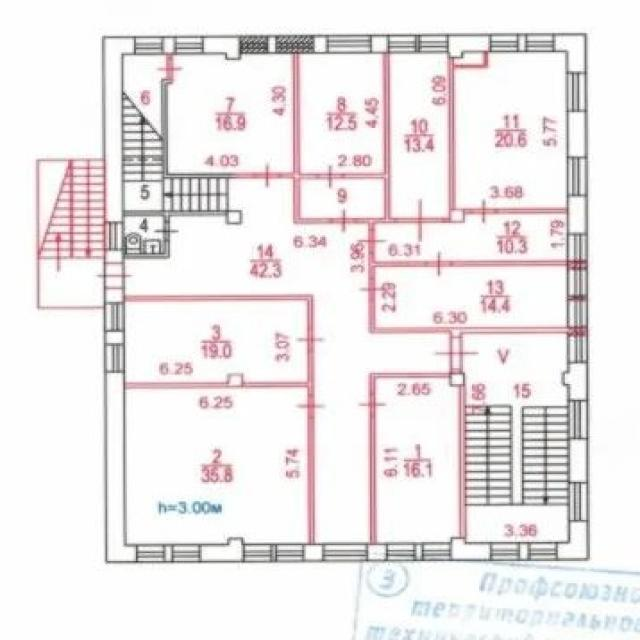Bathrooms: (125, 218, 163, 254)
Corridors: (125, 180, 450, 543), (300, 180, 384, 217)
Doors: (393, 198, 443, 243), (433, 336, 479, 369), (94, 262, 135, 288), (465, 197, 498, 224), (423, 251, 454, 277), (251, 163, 281, 189), (358, 230, 389, 255), (295, 393, 326, 418), (330, 209, 361, 233), (316, 164, 344, 190), (156, 55, 185, 80), (356, 278, 386, 302), (295, 329, 325, 352), (358, 395, 387, 415), (154, 221, 180, 241)
LBwalls: (101, 35, 136, 222), (103, 372, 137, 564), (554, 32, 588, 73), (556, 521, 590, 561), (201, 537, 245, 563), (560, 362, 589, 400), (447, 33, 490, 58), (203, 35, 241, 60), (568, 439, 589, 483), (567, 111, 587, 157), (450, 538, 491, 560), (567, 196, 587, 235), (366, 543, 387, 562), (303, 544, 324, 562), (371, 35, 388, 53), (105, 287, 124, 303), (104, 250, 124, 263), (314, 35, 328, 53), (226, 373, 244, 387), (225, 210, 243, 224), (449, 373, 467, 387), (104, 331, 124, 343), (449, 209, 466, 223), (162, 36, 175, 54), (519, 543, 530, 561), (516, 34, 526, 51), (414, 542, 423, 560), (270, 543, 278, 563), (164, 545, 173, 562), (267, 35, 275, 53), (416, 36, 419, 52)
Offices: (125, 389, 306, 543), (455, 52, 566, 209), (125, 301, 306, 380), (169, 55, 291, 172), (378, 379, 458, 542), (377, 268, 566, 327), (302, 54, 382, 172), (391, 54, 448, 217), (377, 215, 566, 260)
Stairs: (463, 334, 568, 542), (124, 55, 230, 210), (38, 160, 104, 308)
Walls: (160, 78, 251, 179), (344, 53, 394, 231), (281, 54, 330, 225), (368, 302, 589, 338), (125, 294, 315, 328), (448, 53, 489, 210), (244, 352, 315, 396), (368, 373, 451, 395), (368, 254, 424, 278), (459, 387, 467, 538), (368, 415, 377, 543), (123, 210, 226, 221), (307, 417, 315, 544), (123, 240, 171, 260), (452, 259, 567, 266), (126, 382, 226, 388), (498, 207, 566, 214), (566, 261, 588, 268), (567, 294, 587, 301), (450, 368, 462, 373), (442, 217, 449, 223)
Windows: (567, 72, 587, 111), (568, 157, 588, 196), (569, 400, 589, 438), (568, 483, 588, 521), (329, 35, 371, 53), (325, 544, 366, 562), (276, 35, 314, 53), (103, 343, 125, 373), (104, 303, 125, 331), (105, 221, 124, 250), (568, 335, 588, 362), (173, 544, 201, 563), (567, 235, 587, 261), (568, 269, 588, 295), (568, 301, 588, 327), (490, 33, 517, 52), (530, 542, 557, 561), (136, 545, 164, 563), (490, 542, 518, 560), (176, 36, 204, 54), (387, 543, 414, 561), (135, 36, 162, 54), (240, 35, 267, 53), (422, 543, 450, 560), (244, 544, 270, 562), (278, 544, 304, 562), (389, 35, 415, 53), (527, 34, 554, 51), (422, 35, 447, 53)
